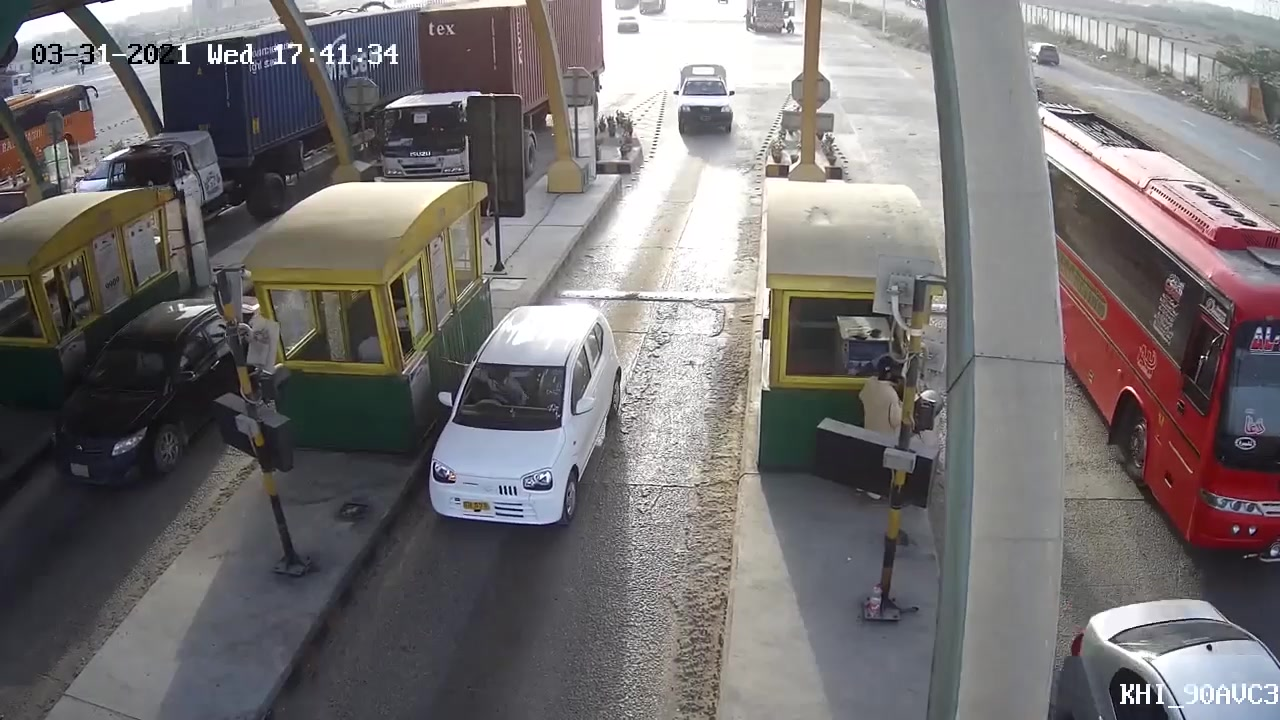F1: (421, 294, 635, 531)
